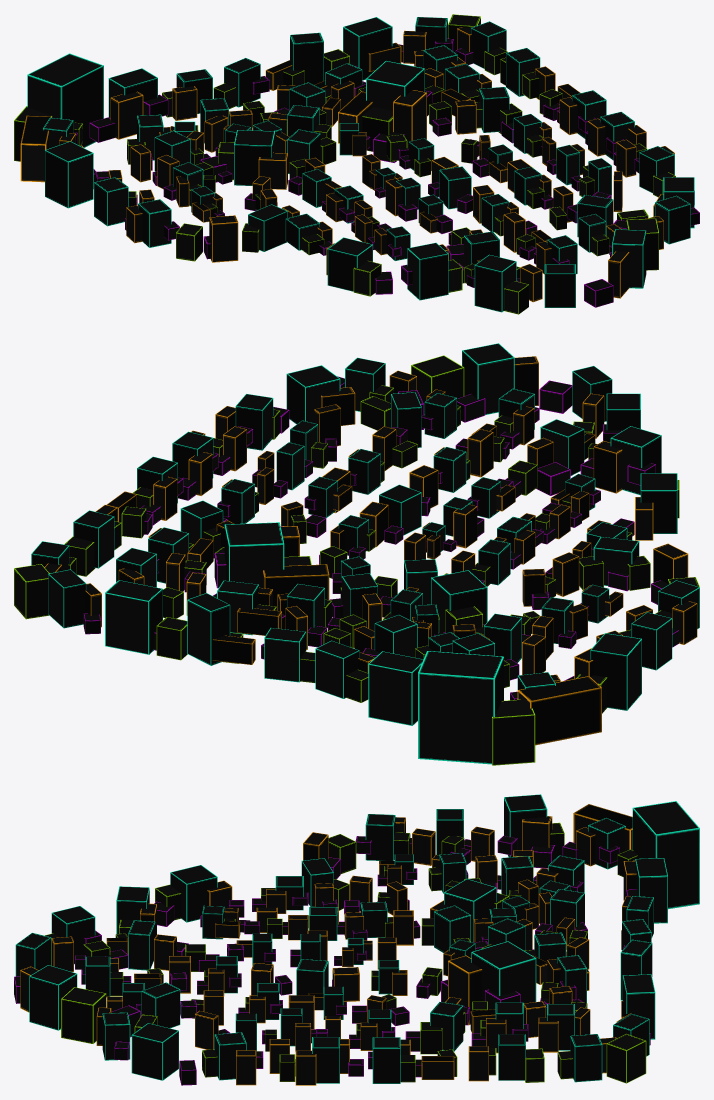
Rendered from mapneon (1).FBX.
3 views of the same model, one above another, from view 1: azimuth 30°, elevation 25°; view 2: azimuth 150°, elevation 25°; view 3: azimuth 270°, elevation 25° (orthographic). The views are drawn at different scales.
Visible parts, largest first — view 1: 1, 3, 4, 2; view 2: 1, 3, 4, 2; view 3: 1, 3, 4, 2.
Boxes of the visible parts, bbox=[...] form: 1: bbox=[27, 17, 694, 312]; 3: bbox=[20, 27, 674, 302]; 4: bbox=[14, 14, 675, 314]; 2: bbox=[73, 38, 699, 307]; 1: bbox=[31, 343, 699, 764]; 3: bbox=[44, 356, 697, 745]; 4: bbox=[14, 355, 699, 765]; 2: bbox=[83, 376, 678, 700]; 1: bbox=[15, 794, 699, 1083]; 3: bbox=[20, 804, 636, 1085]; 4: bbox=[44, 822, 646, 1083]; 2: bbox=[14, 835, 650, 1085].
Size of the model in its own units: 2601 by 372 by 3045.
